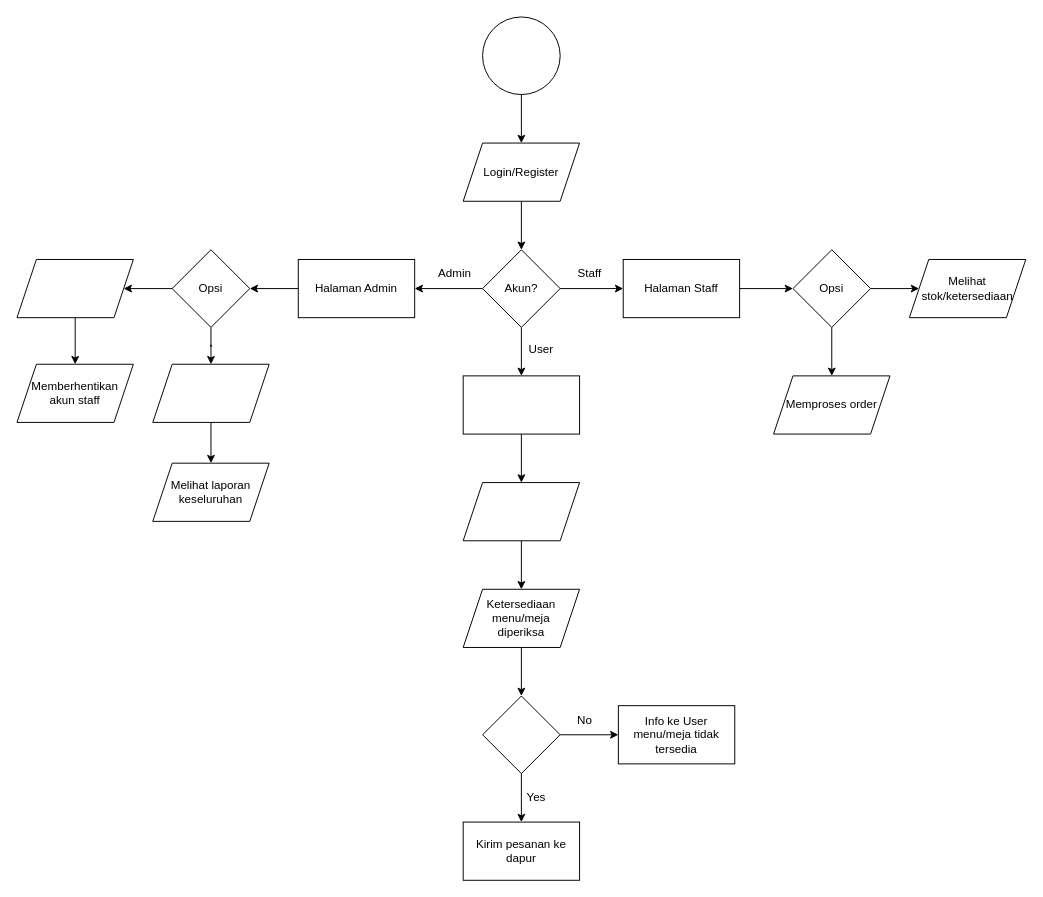
The diagram is 1043 pixels wide and 897 high, and some of its shapes have lost their labels. The shapes that lost their labels are listed below. From the top down, each one's centre as x and y in pixels, then its label:
At [521,55]: "Start".
At [74,288]: "Menyetel akun staff".
At [210,392]: "Menyetel harga".
At [521,404]: "Halaman User".
At [521,511]: "Memesan menu/meja".
At [521,734]: "Tersedia?".
